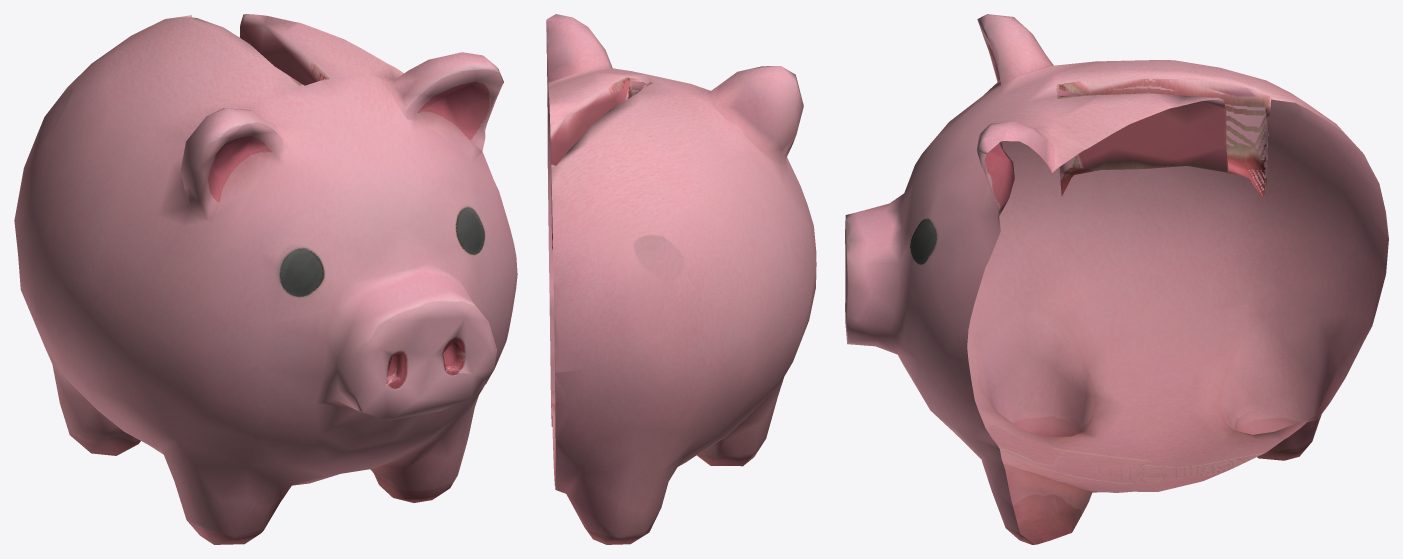
File: PiggyFragment03.glb
The picture shows the model from 3 angles, left to right: view 1: azimuth 30°, elevation 25°; view 2: azimuth 150°, elevation 25°; view 3: azimuth 270°, elevation 25°; orthographic projection. The views are drawn at different scales.
Parts seen in each view (by area): view 1: Piece; view 2: Piece; view 3: Piece.
Boxes of the visible parts, bbox=[...] form: Piece: bbox=[14, 14, 517, 544]; Piece: bbox=[546, 14, 816, 544]; Piece: bbox=[845, 14, 1388, 544].
Bounding box in the file's own units: 0.7128 × 0.838 × 0.9775.
Materials: 1 (1 with a texture image).
